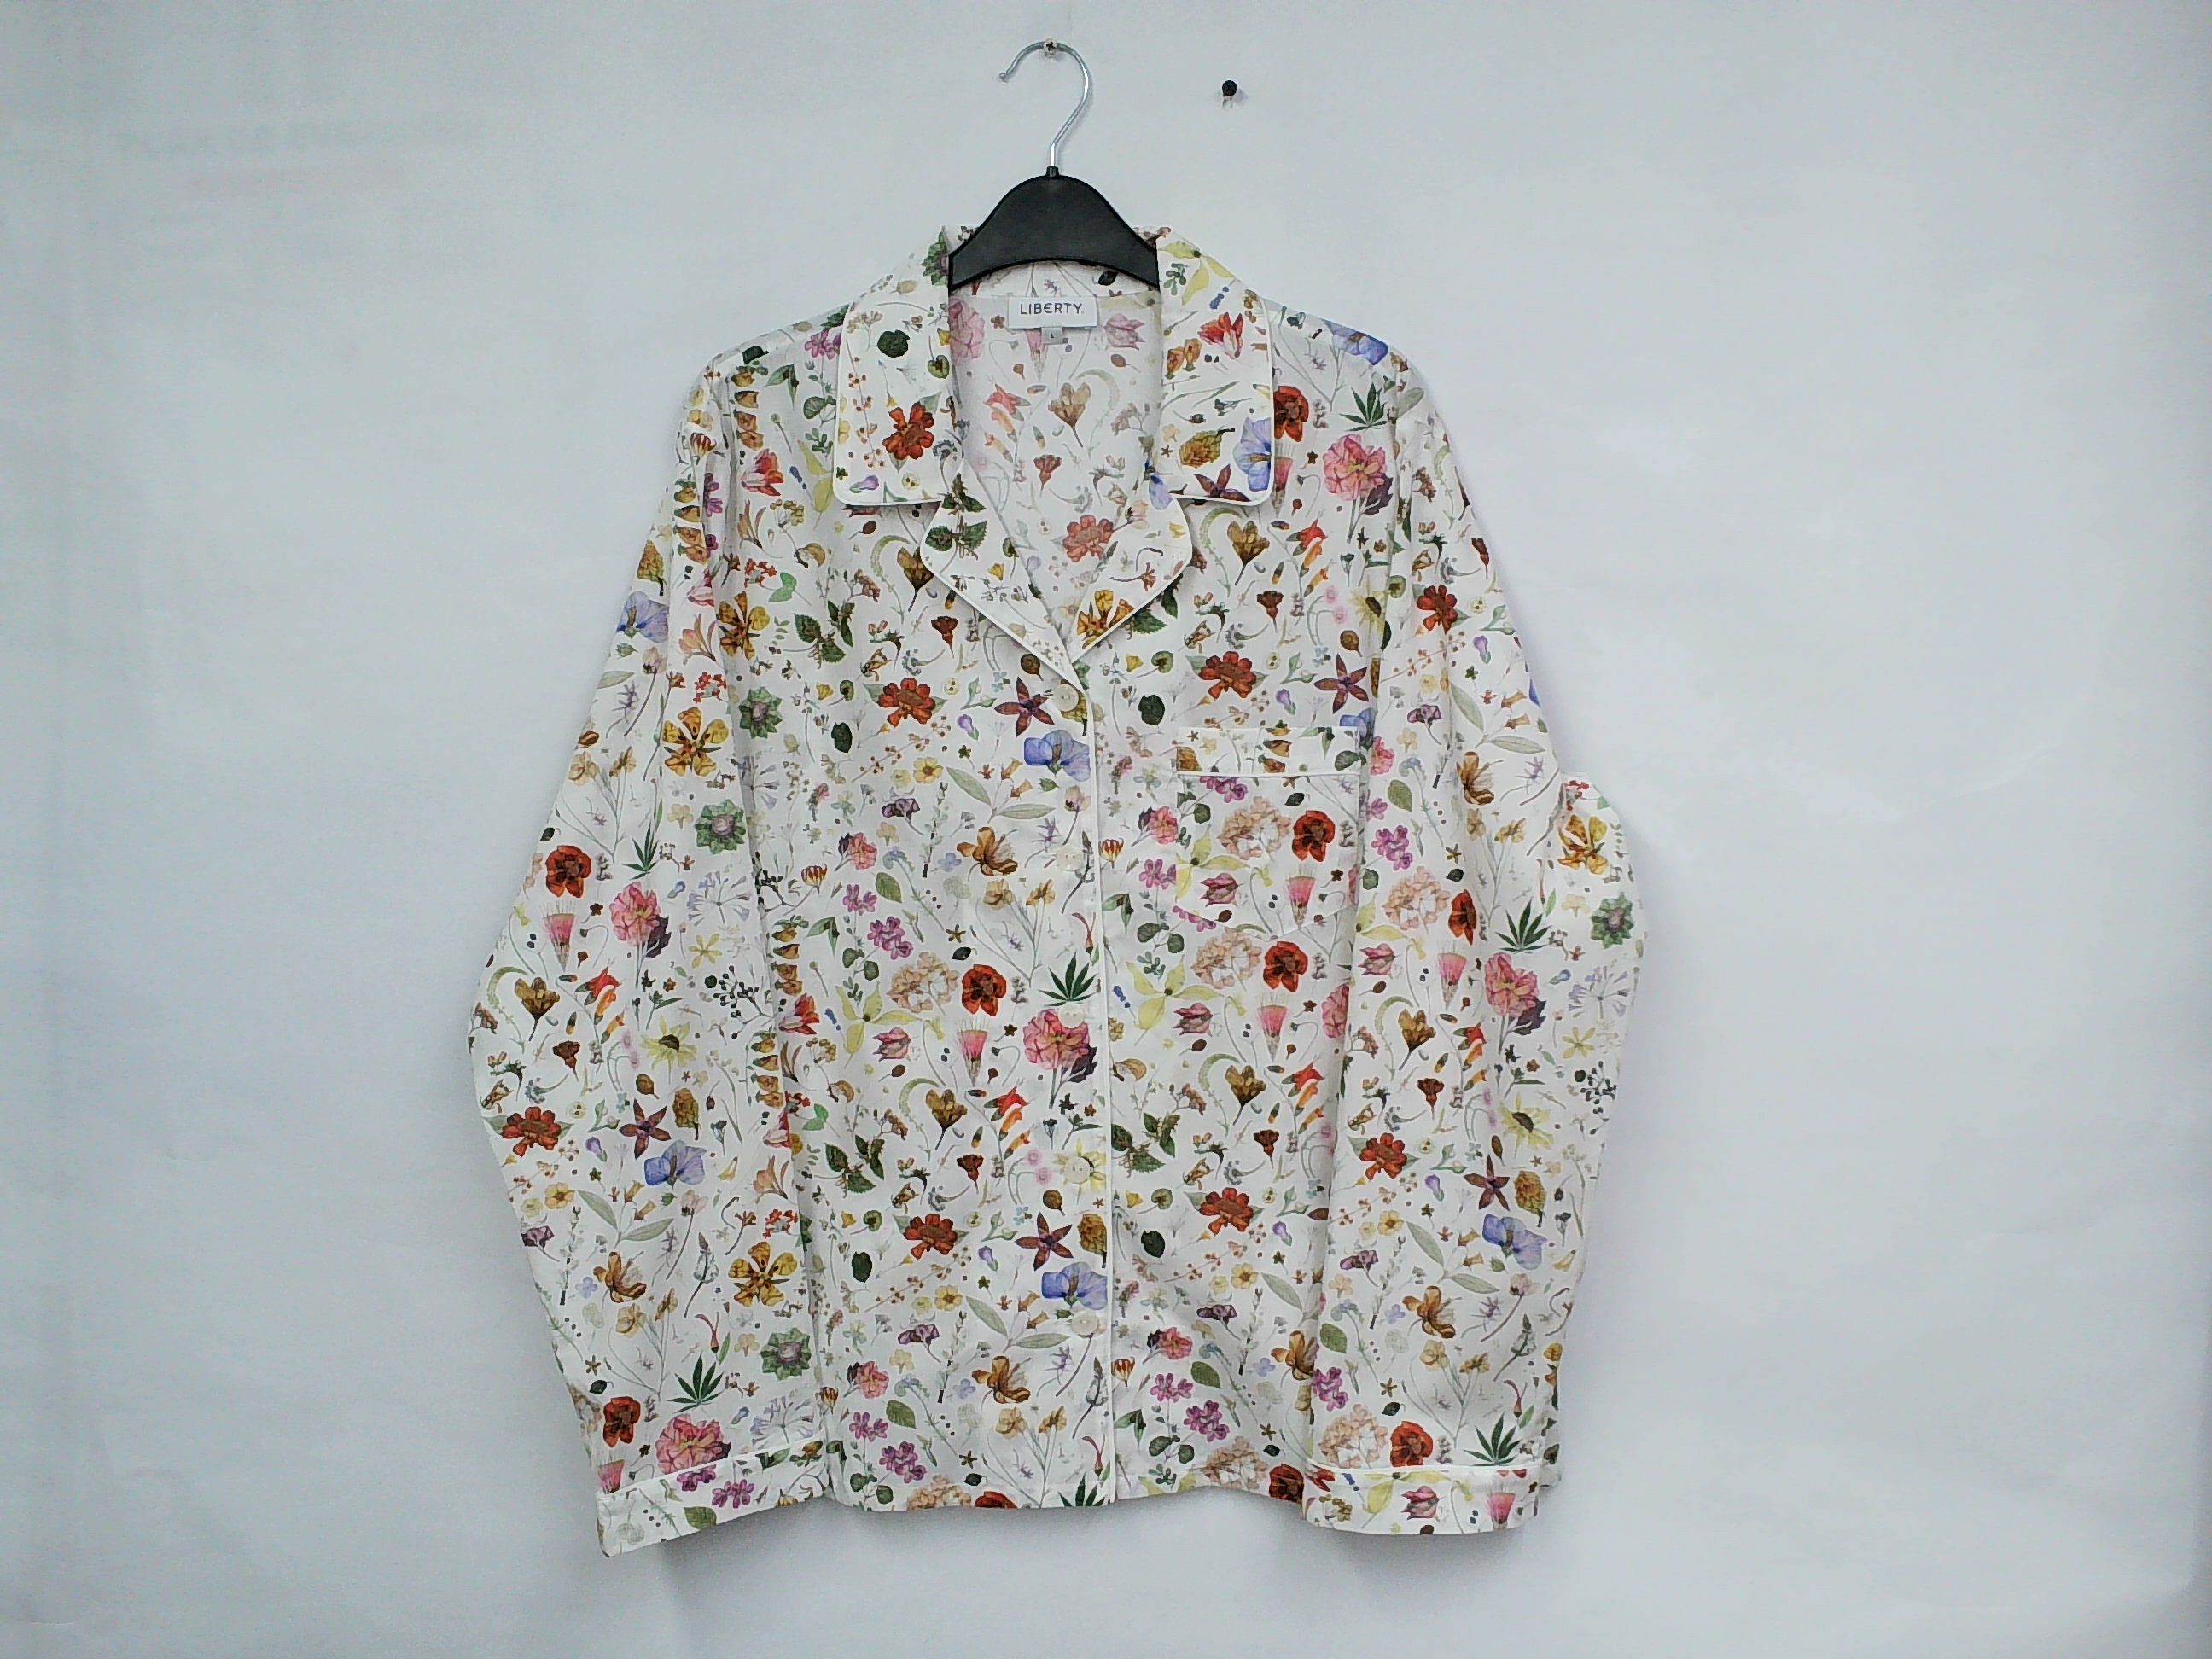seam: (1143, 1441, 1235, 1514)
